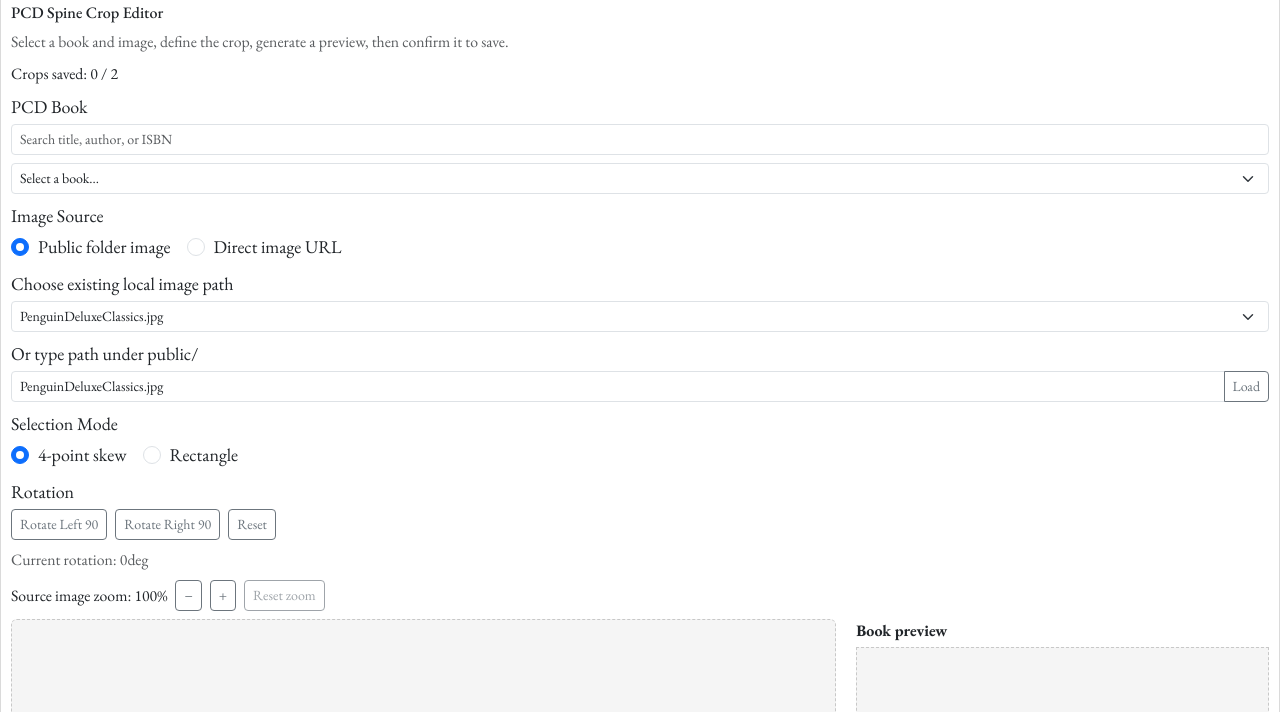
Test: SpineCropEditor save feedback › deletes the selected book record after confirmation
The width and height of the screenshot is (1280, 712).
Step 1. Select "Orphan Book - Unknown (no crop)" in the dropdown named "PCD Book" → (640, 179), box [11,163,1269,194]
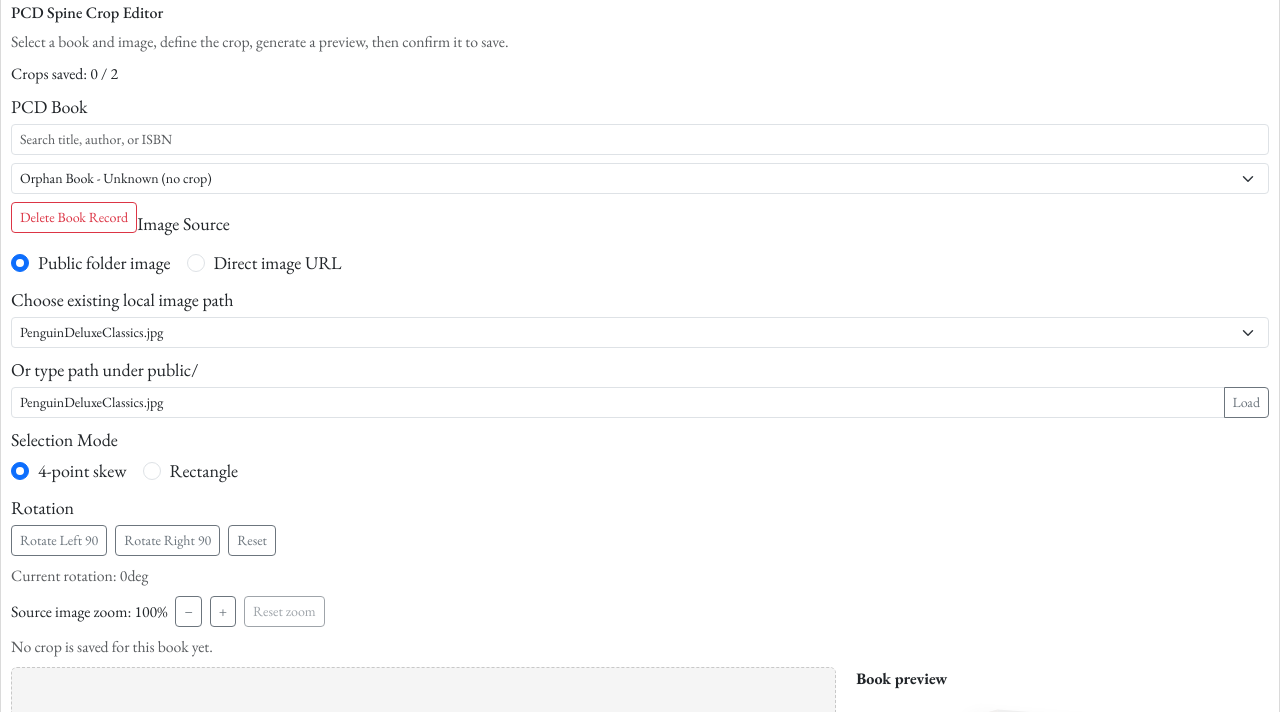
Step 2. Click the button "Delete Book Record" → (74, 218), box [11,202,137,233]
(page scrolled)
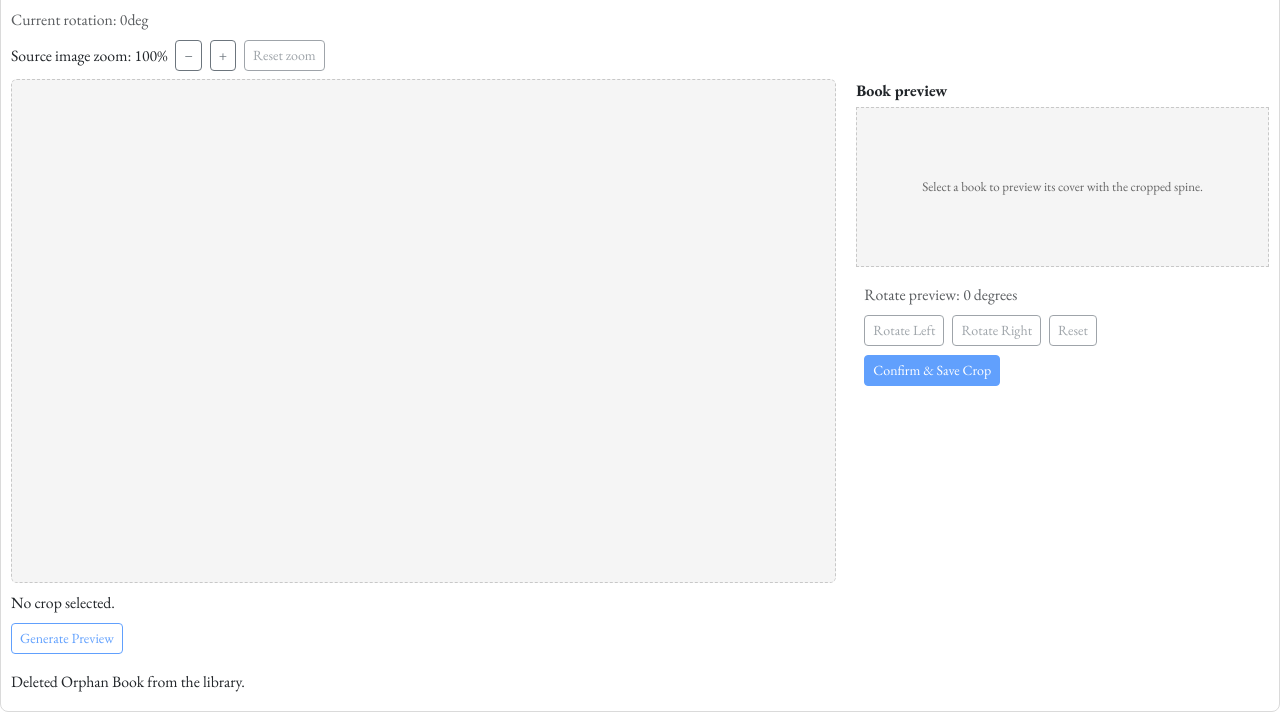
Expected: the text "Deleted Orphan Book from the library." is shown, [11,671,245,692]
